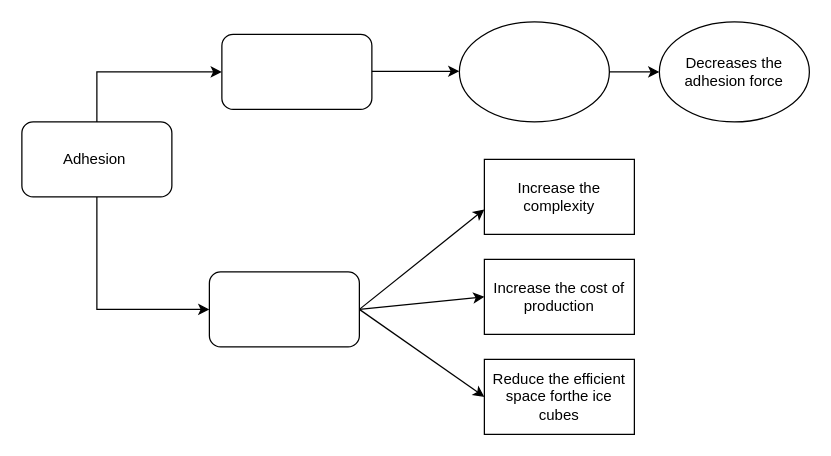
This 831x456 diagram has some shape labels left out. The shapes that lost their labels are listed below. From the top down, each one's centre as x and y in pixels, then its label:
pixel 296 71: Change the Material
pixel 533 71: Change the surface composition
pixel 283 309: Change The Design
